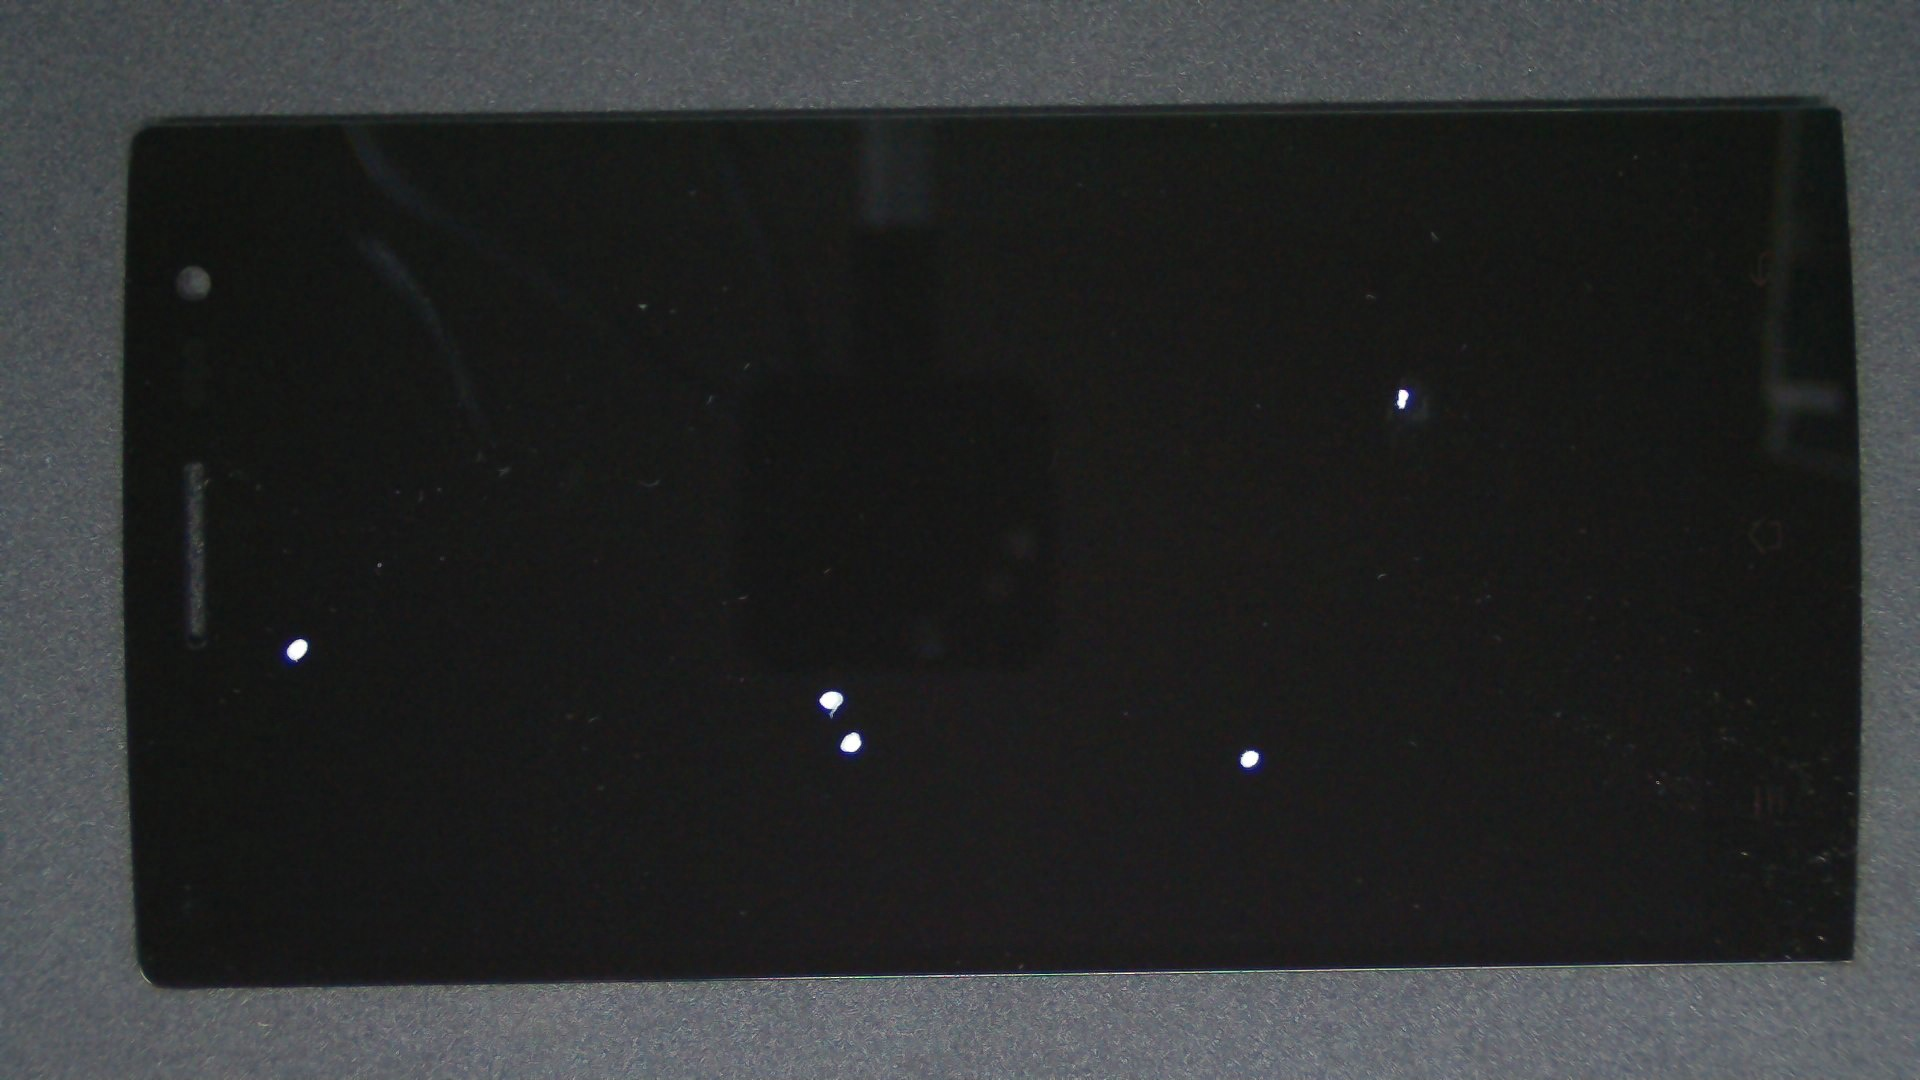oil: (624, 373, 1870, 1080), (426, 364, 1278, 1080), (414, 343, 1240, 1034), (700, 193, 1920, 582), (152, 318, 451, 956)
